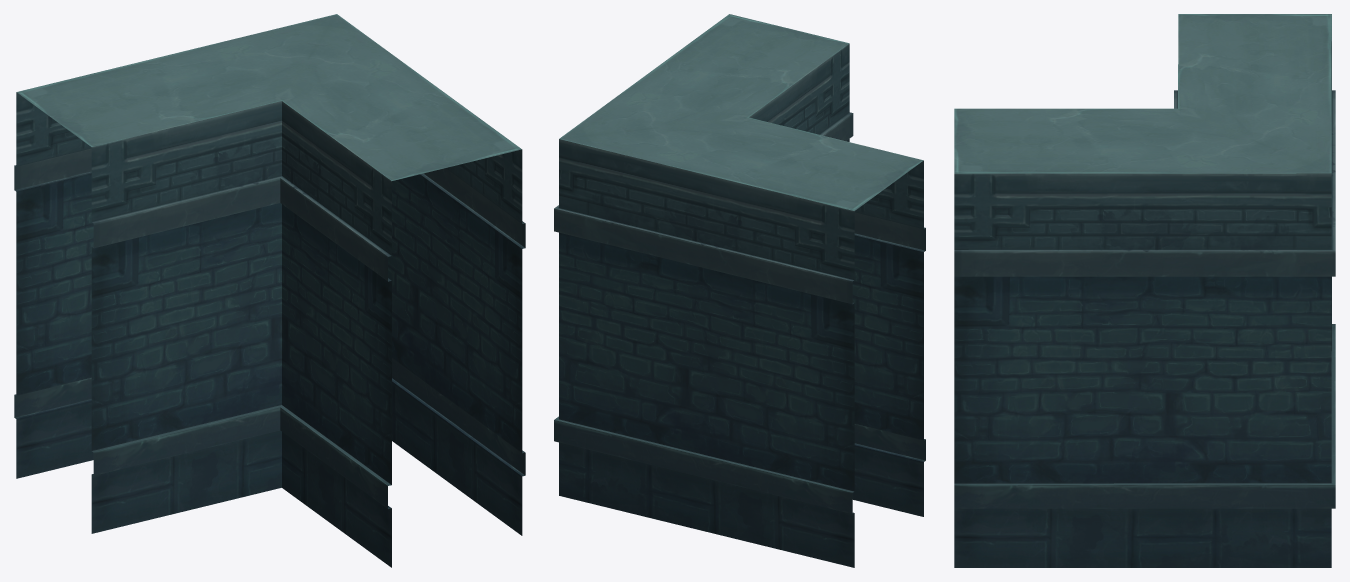
Rendered from Stage_DiXiaCheng_GuaiJiao.FBX.
3 views of the same model, side by side, from view 1: azimuth 30°, elevation 25°; view 2: azimuth 150°, elevation 25°; view 3: azimuth 270°, elevation 25° (orthographic). The views are drawn at different scales.
Visible parts, largest first — view 1: Stage_DiXiaCheng_GuaiJiao; view 2: Stage_DiXiaCheng_GuaiJiao; view 3: Stage_DiXiaCheng_GuaiJiao.
Part boxes in pixels (<box>): Stage_DiXiaCheng_GuaiJiao: <box>14,14,525,567</box>; Stage_DiXiaCheng_GuaiJiao: <box>554,14,925,567</box>; Stage_DiXiaCheng_GuaiJiao: <box>954,14,1335,567</box>.
Bounding box in the file's own units: 877 × 1000 × 877.
